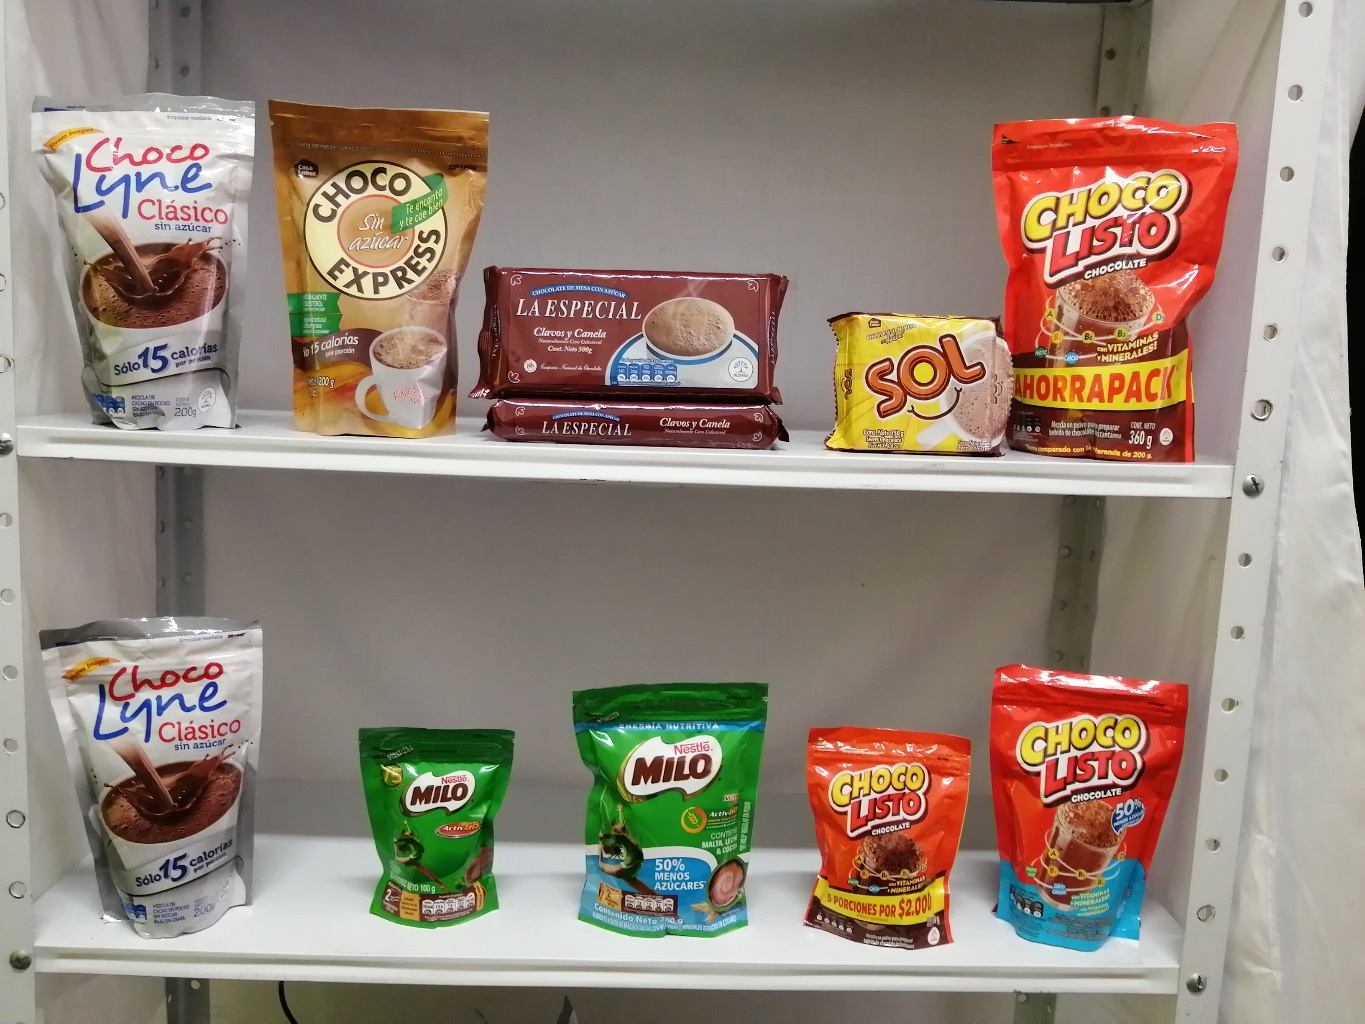COL0170103DYP36000: (979, 110, 1243, 466)
COL0170104DYP20000: (983, 649, 1199, 953)
COL0170203DYP10000: (340, 719, 525, 936)
COL0170205DYP20000: (568, 671, 779, 953)
